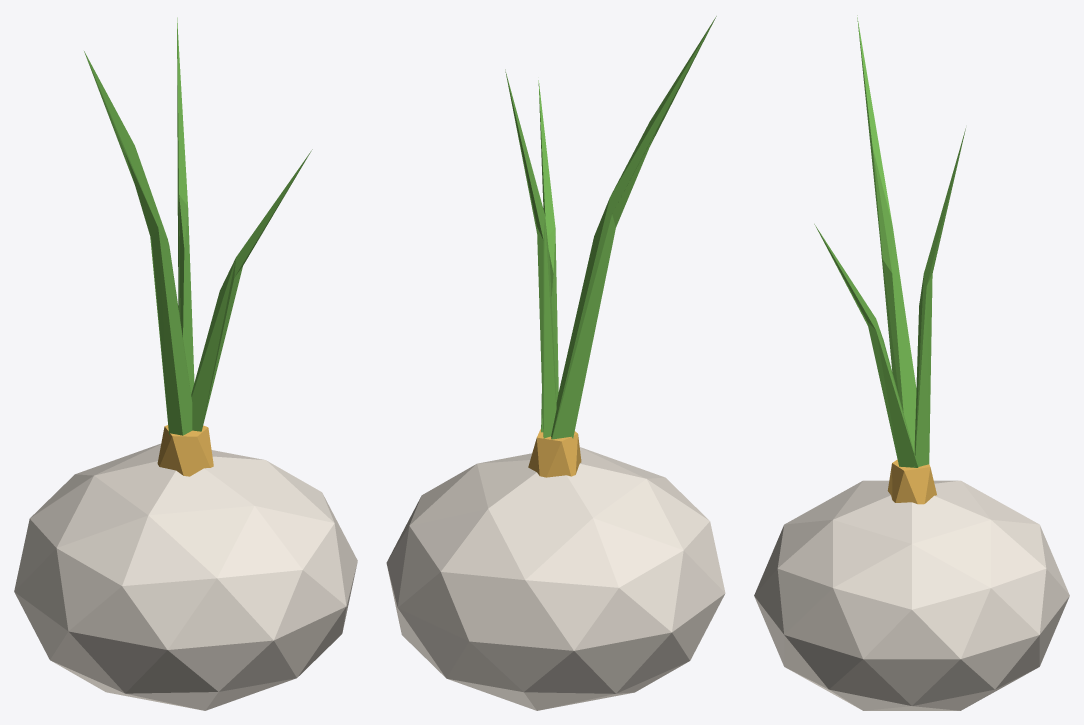
File: Garlic.fbx
3 views of the same model, side by side, from view 1: azimuth 30°, elevation 25°; view 2: azimuth 150°, elevation 25°; view 3: azimuth 270°, elevation 25° (orthographic). The views are drawn at different scales.
Parts seen in each view (by area): view 1: Garlic; view 2: Garlic; view 3: Garlic.
Boxes of the visible parts, x1=… form: Garlic: x1=14, y1=17, x2=357, y2=710; Garlic: x1=386, y1=16, x2=725, y2=710; Garlic: x1=754, y1=15, x2=1069, y2=710.
Bounding box in the file's own units: 7.39 × 17.32 × 7.77.
